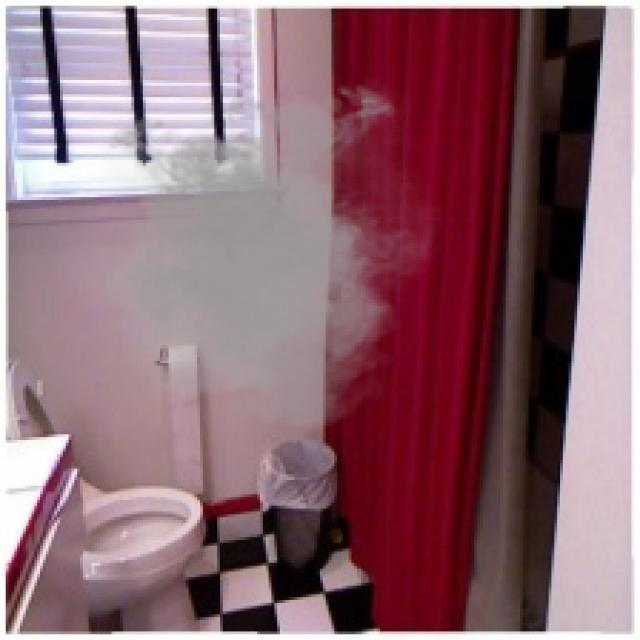Smoke: (48, 74, 454, 434)
